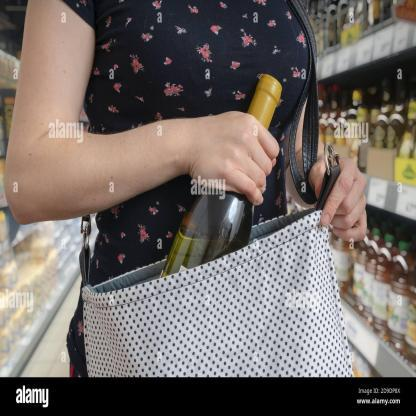shoplifting: (95, 16, 360, 376)
